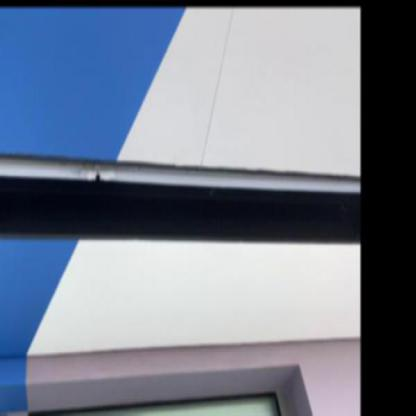light_off: (0, 100, 361, 224)
